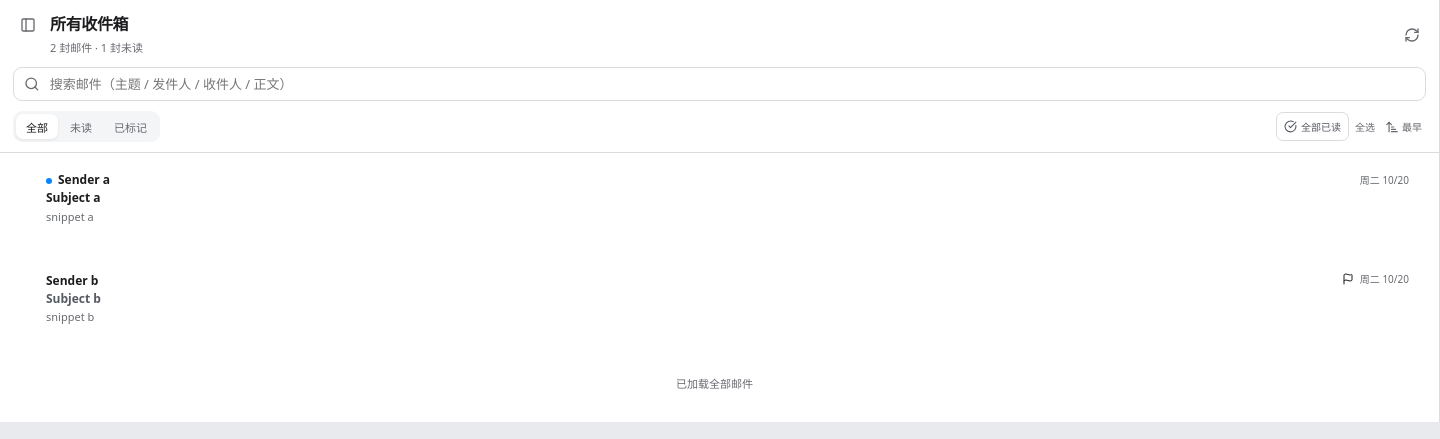
Test case: <MessageList /> › decrements the list unread count immediately when opening an unread message
Expected: the text with class "list-count" reads "2 封邮件 · 1 封未读", [50, 40, 143, 55]
Click the element with class "unread" at [84, 180], box [46, 171, 1409, 224]
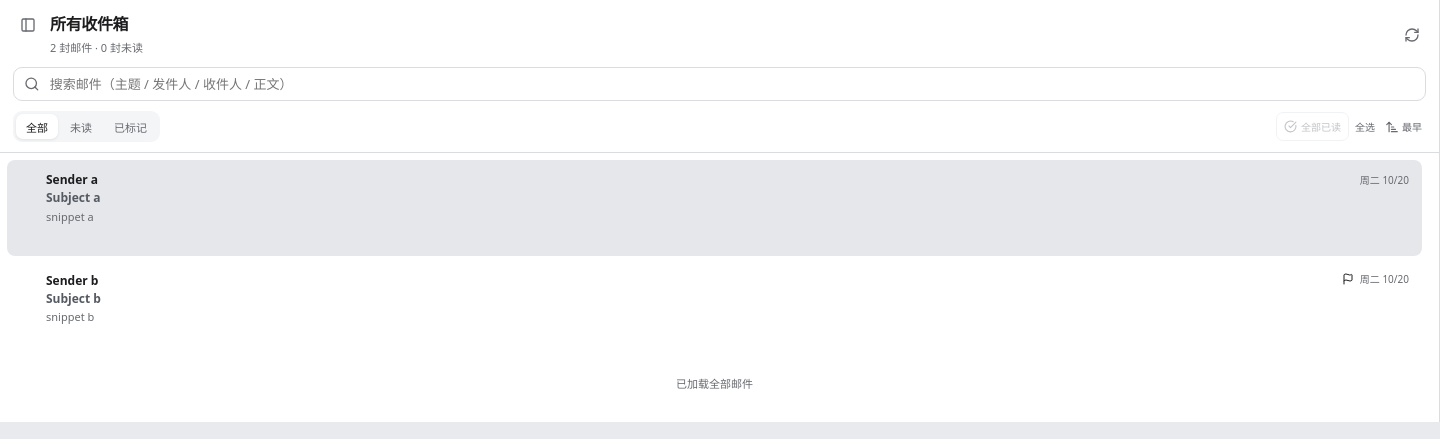
Expected: the text with class "list-count" reads "2 封邮件 · 0 封未读", [50, 40, 143, 55]
